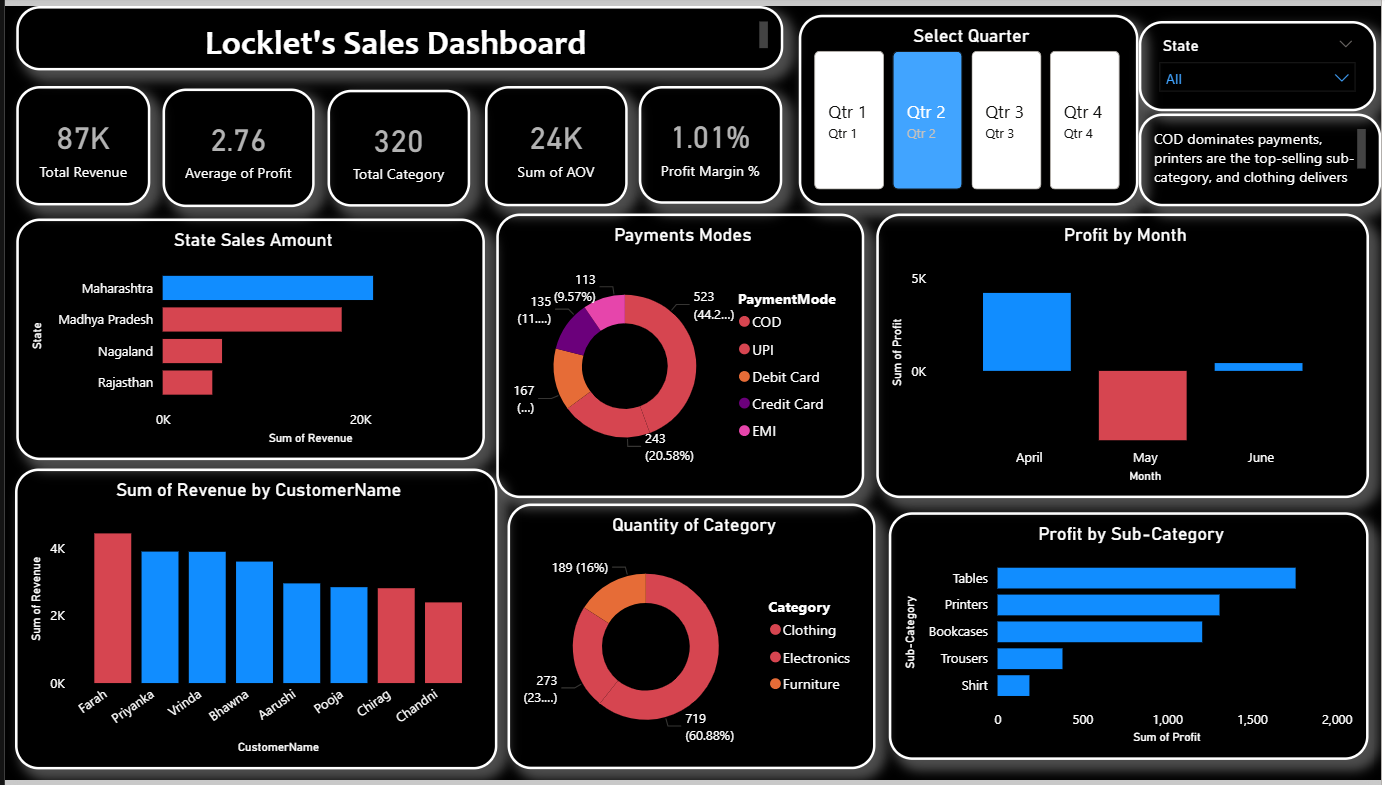

The dashboard page shown, as its layout file describes it:
{"tool":"powerbi","page":{"name":"Page 1","canvas":[1280,720],"ordinal":0},"visuals":[{"type":"textbox","box":[10,0,713.8,60],"z":0},{"type":"donutChart","title":"Quantity of Category","fields":{"Category":["Details.Category"],"Y":["Sum(Details.Quantity)"]},"box":[467.5,462.5,342.5,247.5],"z":1000},{"type":"clusteredColumnChart","title":"Profit by Month","fields":{"Y":["Sum(Details.Profit)"],"Category":["Orders.Order Date.Variation.Date Hierarchy.Month"]},"box":[810,192.5,458.8,265],"z":2000},{"type":"barChart","title":"Profit by Sub-Category","fields":{"Category":["Details.Sub-Category"],"Y":["Sum(Details.Profit)"]},"box":[822.5,471.2,446.2,230],"z":3000},{"type":"donutChart","title":"Quantity of Category","fields":{"Y":["Sum(Details.Quantity)"],"Category":["Details.PaymentMode"]},"box":[457.5,192.5,342.5,265],"z":4000},{"type":"card","fields":{"Values":["Sum(Details.Amount)"]},"box":[10,75,125,111.2],"z":5000},{"type":"card","fields":{"Values":["Avg(Details.Profit)"]},"box":[146.2,76.2,141.2,110],"z":6000},{"type":"card","fields":{"Values":["CountNonNull(Details.Category)"]},"box":[300,77.5,132.5,108.8],"z":7000},{"type":"card","fields":{"Values":["Sum(Details.AOV)"]},"box":[446.2,75,128.8,111.2],"z":8000},{"type":"barChart","title":"State Sales Amount","fields":{"Category":["Orders.State"],"Y":["Sum(Details.Amount)"]},"box":[10,197.5,436.2,225],"z":9000},{"type":"columnChart","fields":{"Category":["Orders.CustomerName"],"Y":["Sum(Details.Amount)"]},"box":[8.8,430,448.8,280],"z":10000},{"type":"advancedSlicerVisual","title":"Select Quarter","fields":{"Values":["Orders.Order Date.Variation.Date Hierarchy.Quarter"],"Label":["Min(Orders.Order Date.Variation.Date Hierarchy.Quarter)"]},"box":[738.5,8.4,301.4,177.7],"z":11000},{"type":"slicer","fields":{"Values":["Orders.State"]},"box":[1045.4,51.2,230.2,93],"z":12000},{"type":"card","fields":{"Values":["Details.Profit Margin %"]},"box":[589.6,74.4,133.3,109.3],"z":13000}]}

Visuals, with their boxes in screenshot pixels (x1, y1, x2, y2), scaled from the page's 1280x720 canvas onto the 1385x785 screenshot:
textbox: bbox(11, 0, 783, 65)
"Quantity of Category" donutChart: bbox(506, 504, 876, 774)
"Profit by Month" clusteredColumnChart: bbox(876, 210, 1373, 499)
"Profit by Sub-Category" barChart: bbox(890, 514, 1373, 765)
"Quantity of Category" donutChart: bbox(495, 210, 866, 499)
card - Sum(Details.Amount): bbox(11, 82, 146, 203)
card - Avg(Details.Profit): bbox(158, 83, 311, 203)
card - CountNonNull(Details.Category): bbox(325, 84, 468, 203)
card - Sum(Details.AOV): bbox(483, 82, 622, 203)
"State Sales Amount" barChart: bbox(11, 215, 483, 461)
columnChart - Orders.CustomerName x Sum(Details.Amount): bbox(10, 469, 495, 774)
"Select Quarter" advancedSlicerVisual: bbox(799, 9, 1125, 203)
slicer - Orders.State: bbox(1131, 56, 1380, 157)
card - Details.Profit Margin %: bbox(638, 81, 782, 200)
